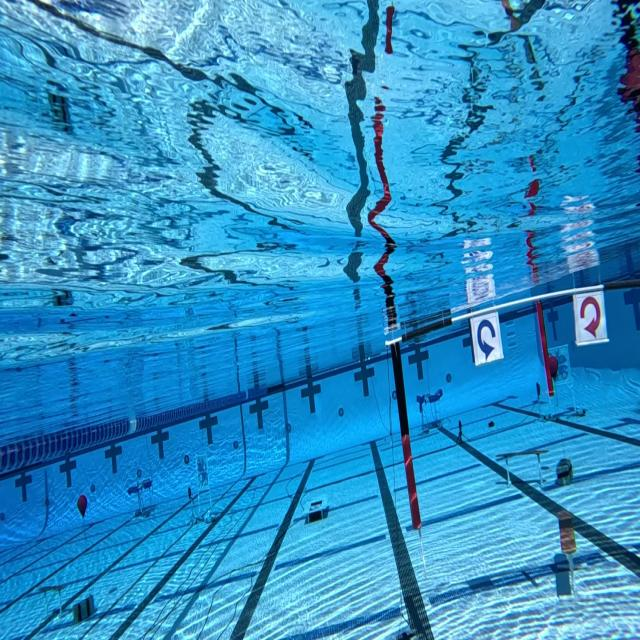blue_side: (466, 310, 503, 368)
red_side: (572, 283, 608, 348)
